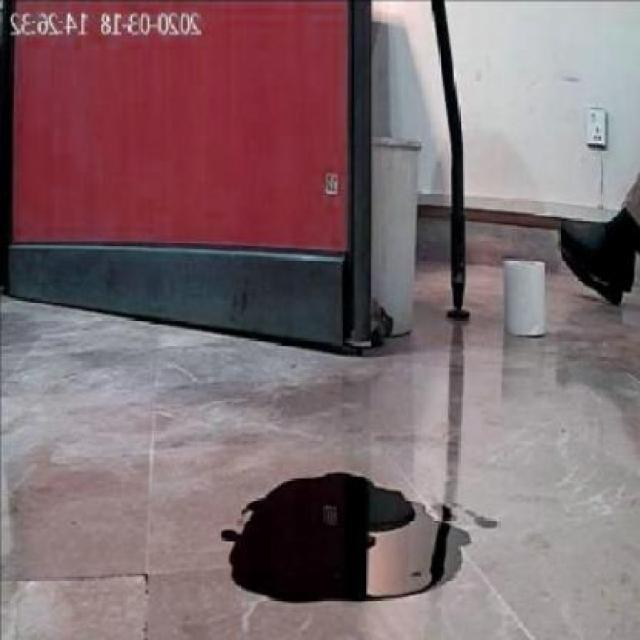spillage: (227, 459, 494, 605)
